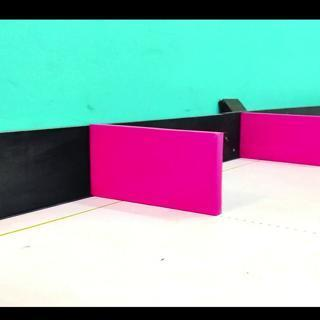xparking: (97, 138, 219, 214), (245, 120, 316, 164)
